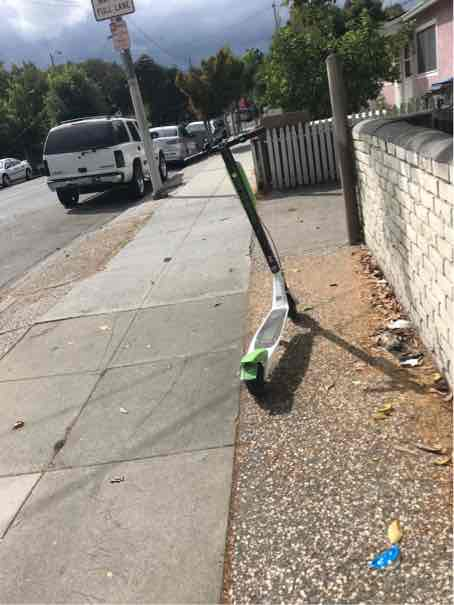scooter: (178, 114, 307, 418)
